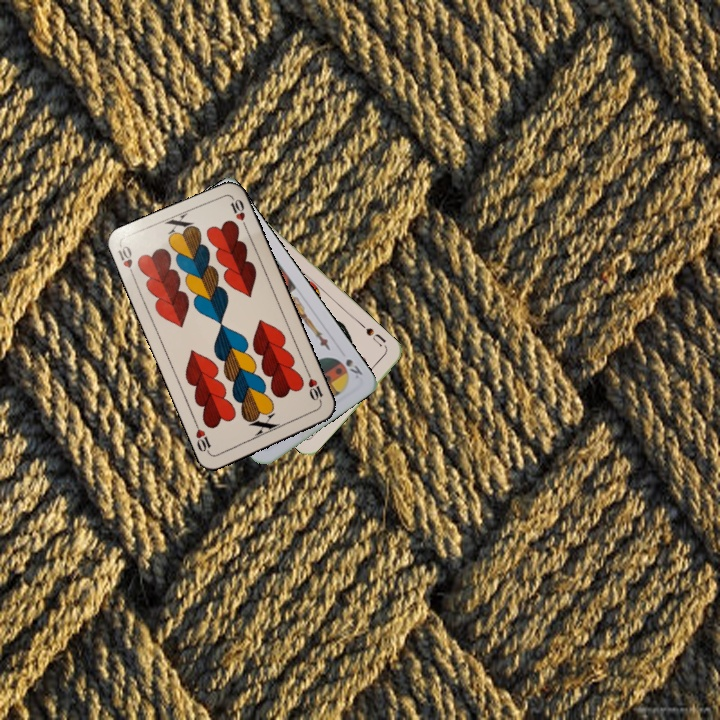H10: (114, 242, 138, 281), (303, 368, 325, 407)
SK: (341, 355, 365, 381)
SU: (362, 324, 389, 349)
